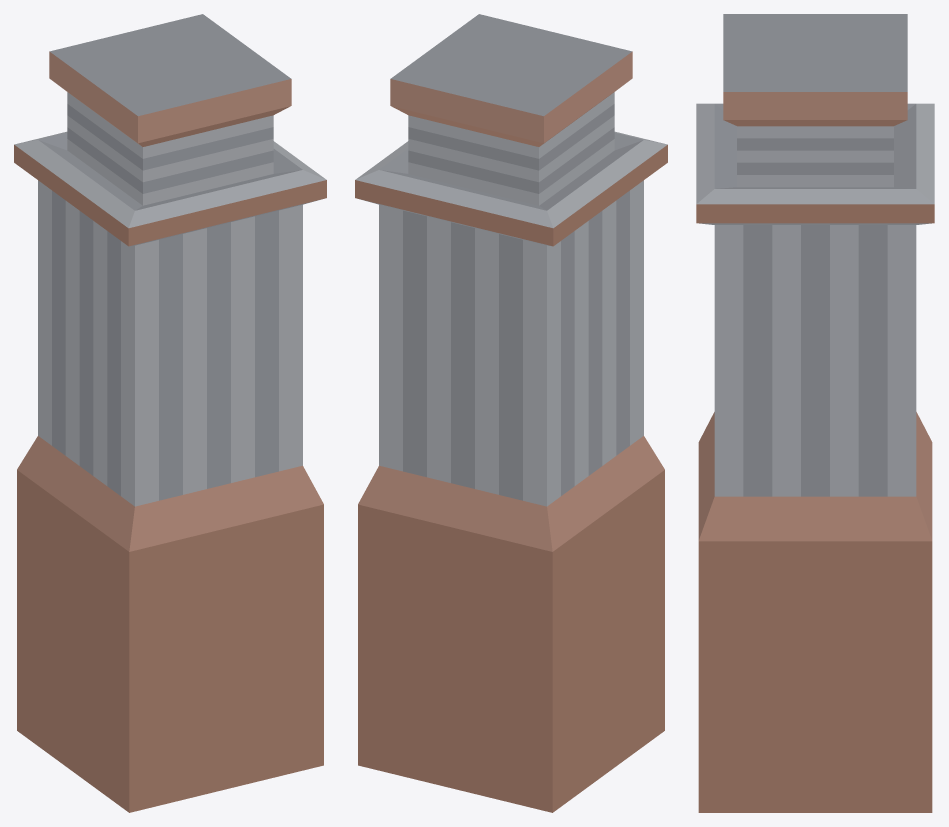
Rendered from wallPillar.glb.
3 views of the same model, side by side, from view 1: azimuth 30°, elevation 25°; view 2: azimuth 150°, elevation 25°; view 3: azimuth 270°, elevation 25° (orthographic). The views are drawn at different scales.
Visible parts, largest first — view 1: wallPillar; view 2: wallPillar; view 3: wallPillar.
Boxes of the visible parts, x1,y1,x2,y2 form: wallPillar: (14, 14, 326, 812); wallPillar: (355, 14, 667, 812); wallPillar: (696, 14, 934, 812).
Size of the model in its own units: 2.13 by 6.99 by 2.13.
